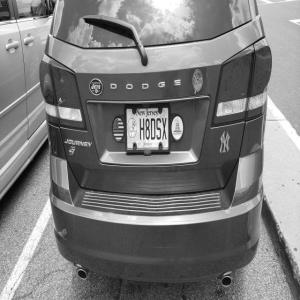Plate: (125, 105, 170, 153)
